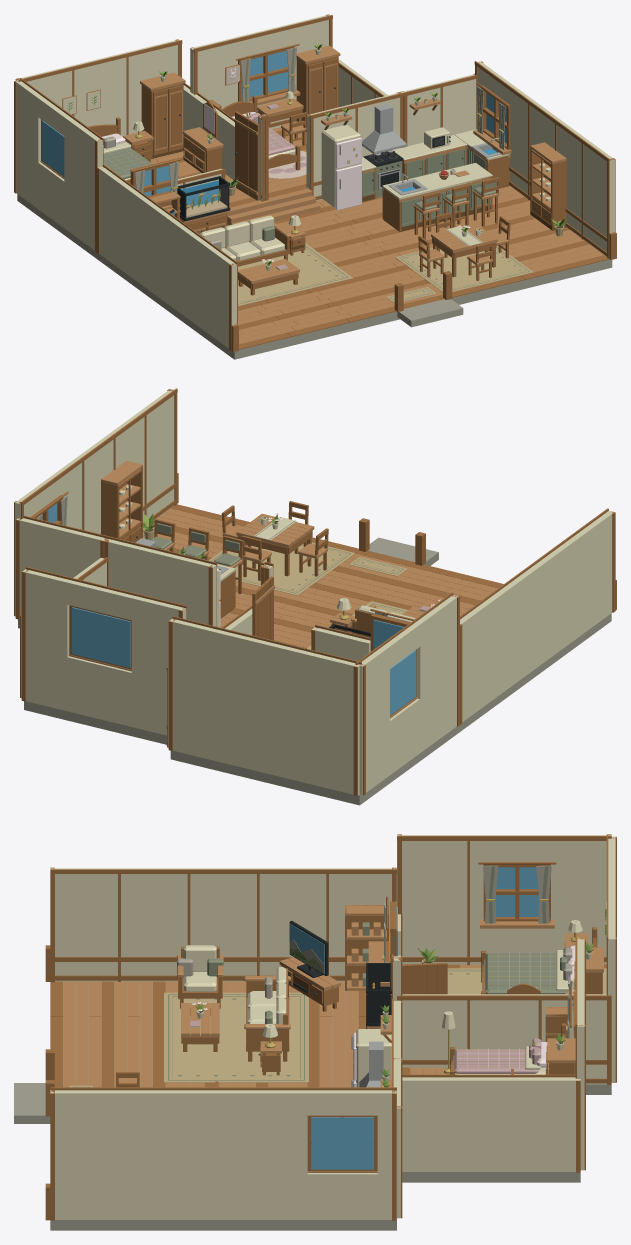
Rendered from HouseInterior_Lv4.fbx.
3 renders of one model, top to bottom at view 1: azimuth 30°, elevation 25°; view 2: azimuth 150°, elevation 25°; view 3: azimuth 270°, elevation 25°, orthographic. The views are drawn at different scales.
Visible parts, largest first — view 1: H_CommonFloor_Planks_FBX, H_LeftWall_Common_FBX, H_RightWall_Kitchen_FBX, H_LeftWall_Master_FBX, H_Pink_Back_FBX, H_Master_Back_FBX, H_Foundation_RaisedBedroomPlatforms_FBX, H_ThreeSteps_AndEntrance_FBX, H_Kitchen_Wing_Back_FBX, Lv4_K6_PanelledCounter_FBX, Lv4_K1_Fridge_Cream_TwoDoor_FBX, H_Pink_Front_KitchenBackdrop_FBX (+39 smaller); view 2: H_Master_Back_FBX, H_Pink_Back_FBX, H_LeftWall_Common_FBX, H_LeftWall_Master_FBX, H_CommonFloor_Planks_FBX, H_RightWall_Kitchen_FBX, H_Pink_Front_KitchenBackdrop_FBX, H_Foundation_RaisedBedroomPlatforms_FBX, H_Kitchen_Wing_Back_FBX, Lv4_K10_H_Cupboard_Glass_FBX, Lv4_R4_Rug_Dining4_FBX, H_Master_Front_FBX (+12 smaller); view 3: H_RightWall_Kitchen_FBX, H_LeftWall_Common_FBX, H_LeftWall_Master_FBX, H_CommonFloor_Planks_FBX, H_Pink_Right_FBX, H_SharedRoomDivider_FBX, Lv4_R3_Rug_Lounge_FBX, H_Foundation_RaisedBedroomPlatforms_FBX, Lv4_M1_Bed_Double_Rich_FBX, Lv4_T3_Sofa_Cream_FBX, Lv4_C1_Bed_Child_Pink_FBX, Lv4_T9_H_TV_OpenShelf_FBX (+20 smaller).
Boxes of the visible parts, x1,y1,x2,y2 form: H_CommonFloor_Planks_FBX: [227, 185, 609, 349]; H_LeftWall_Common_FBX: [97, 164, 237, 350]; H_RightWall_Kitchen_FBX: [473, 61, 615, 258]; H_LeftWall_Master_FBX: [14, 78, 103, 252]; H_Pink_Back_FBX: [190, 14, 332, 129]; H_Master_Back_FBX: [15, 39, 182, 136]; H_Foundation_RaisedBedroomPlatforms_FBX: [17, 194, 612, 359]; H_ThreeSteps_AndEntrance_FBX: [227, 188, 616, 352]; H_Kitchen_Wing_Back_FBX: [400, 73, 477, 147]; Lv4_K6_PanelledCounter_FBX: [382, 163, 492, 231]; Lv4_K1_Fridge_Cream_TwoDoor_FBX: [321, 125, 361, 210]; H_Pink_Front_KitchenBackdrop_FBX: [306, 92, 403, 200]; H_Master_Back_FBX: [168, 616, 361, 795]; H_Pink_Back_FBX: [21, 566, 186, 735]; H_LeftWall_Common_FBX: [460, 508, 615, 724]; H_LeftWall_Master_FBX: [355, 592, 459, 795]; H_CommonFloor_Planks_FBX: [143, 504, 503, 648]; H_RightWall_Kitchen_FBX: [14, 388, 177, 616]; H_Pink_Front_KitchenBackdrop_FBX: [104, 536, 217, 626]; H_Foundation_RaisedBedroomPlatforms_FBX: [18, 613, 611, 805]; H_Kitchen_Wing_Back_FBX: [15, 515, 108, 619]; Lv4_K10_H_Cupboard_Glass_FBX: [101, 460, 142, 542]; Lv4_R4_Rug_Dining4_FBX: [209, 542, 355, 595]; H_Master_Front_FBX: [311, 613, 410, 660]; H_RightWall_Kitchen_FBX: [50, 1087, 396, 1220]; H_LeftWall_Common_FBX: [50, 867, 396, 982]; H_LeftWall_Master_FBX: [397, 834, 611, 966]; H_CommonFloor_Planks_FBX: [50, 981, 391, 1087]; H_Pink_Right_FBX: [401, 1074, 580, 1172]; H_SharedRoomDivider_FBX: [397, 994, 611, 1084]; Lv4_R3_Rug_Lounge_FBX: [164, 992, 308, 1082]; H_Foundation_RaisedBedroomPlatforms_FBX: [50, 967, 611, 1230]; Lv4_M1_Bed_Double_Rich_FBX: [481, 927, 597, 994]; Lv4_T3_Sofa_Cream_FBX: [244, 967, 290, 1061]; Lv4_C1_Bed_Child_Pink_FBX: [450, 1023, 566, 1074]; Lv4_T9_H_TV_OpenShelf_FBX: [345, 905, 388, 990].
Size of the model in its own units: 11.1 by 3.37 by 11.65.
